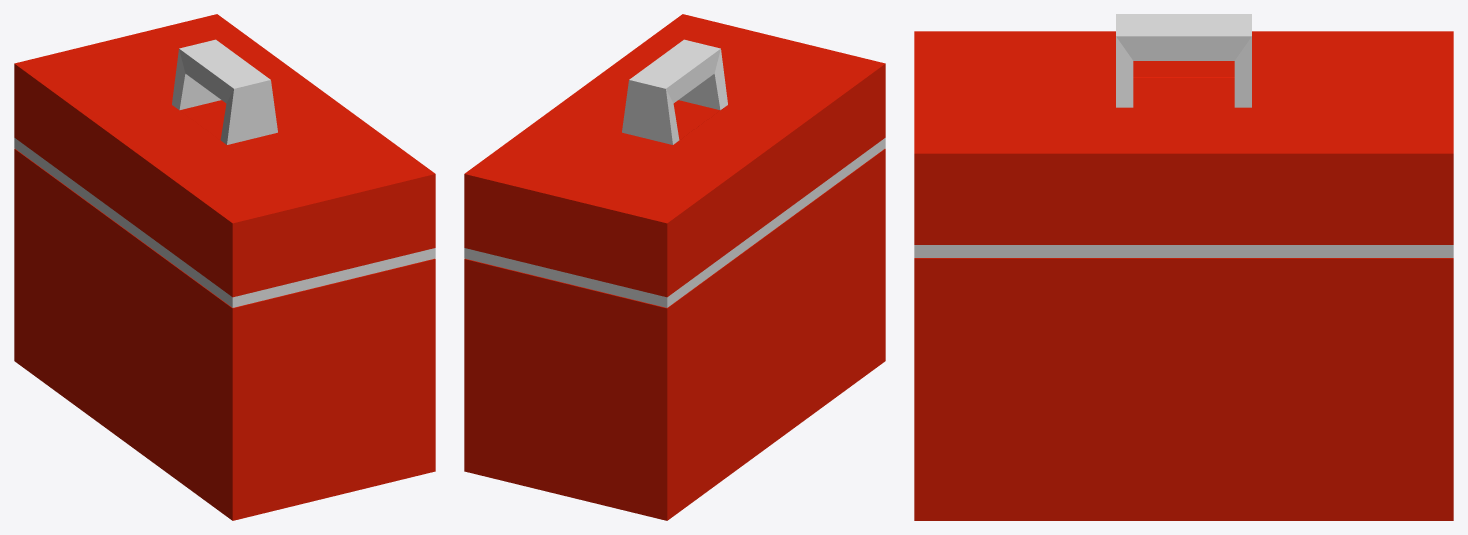
3 renders of one model, left to right at view 1: azimuth 30°, elevation 25°; view 2: azimuth 150°, elevation 25°; view 3: azimuth 270°, elevation 25°, orthographic. The views are drawn at different scales.
Parts seen in each view (by area): view 1: Box03, Box03-cover.001; view 2: Box03, Box03-cover.001; view 3: Box03, Box03-cover.001.
Part boxes in pixels (x1,y1,x2,y2): Box03: (14, 148, 435, 520); Box03-cover.001: (14, 14, 435, 307); Box03: (464, 148, 885, 520); Box03-cover.001: (464, 14, 885, 307); Box03: (914, 258, 1453, 520); Box03-cover.001: (914, 14, 1453, 257).
Bounding box in the file's own units: 27.51 × 45.6 × 51.29.
